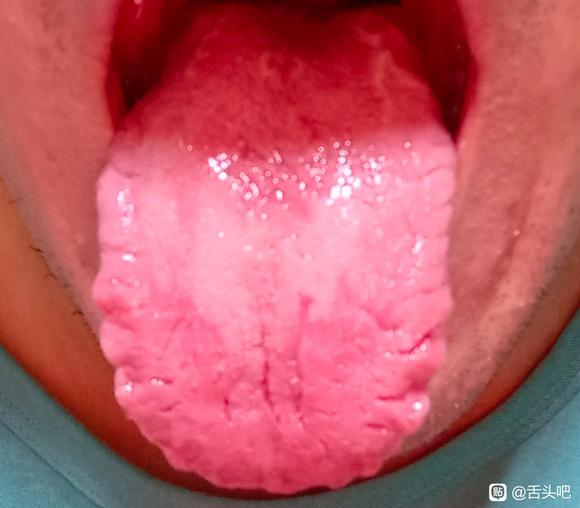botaishe: (348, 9, 437, 126)
hongshe: (91, 10, 454, 493)
liewenshe: (218, 291, 316, 427)
